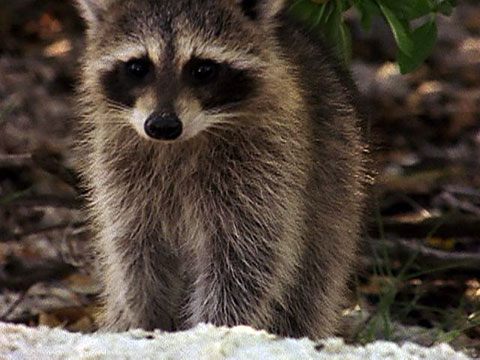raccoon: (60, 3, 380, 344)
